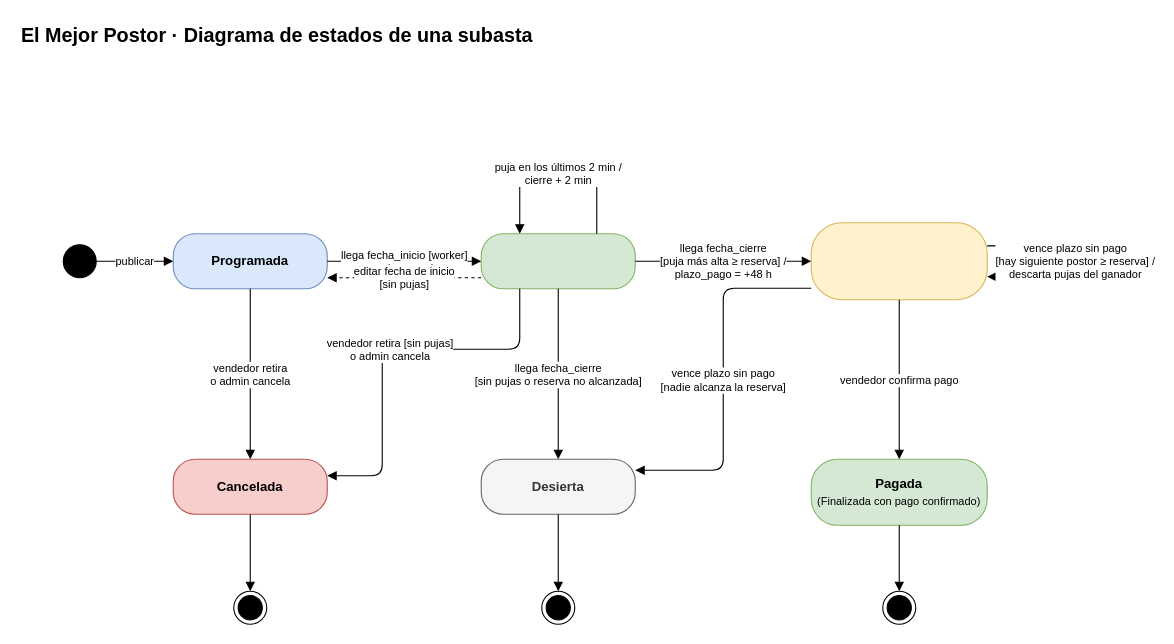
Image size: 1174x644. Some labels were removed from this diagram. Each missing label, with the box of its shape:
Activa: (480, 233, 635, 289)
Finalizada esperando pago (48 h): (810, 222, 987, 300)
